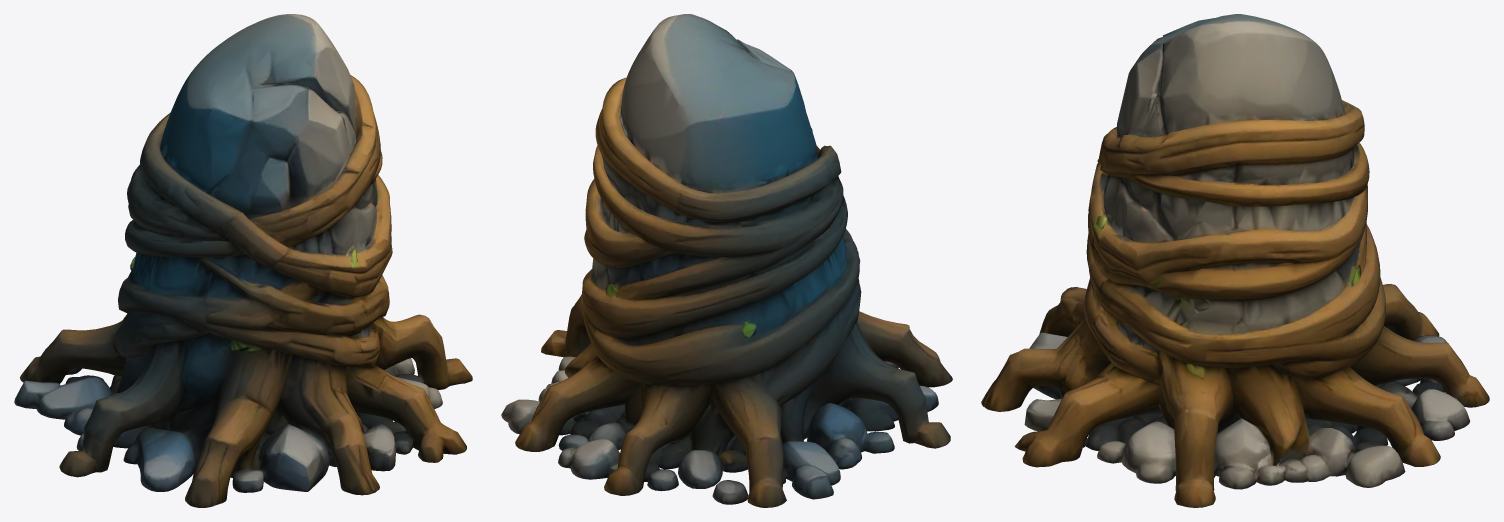
Rendered from roots2.opt.glb.
3 views of the same model, side by side, from view 1: azimuth 30°, elevation 25°; view 2: azimuth 150°, elevation 25°; view 3: azimuth 270°, elevation 25° (orthographic). The views are drawn at different scales.
Visible parts, largest first — view 1: node_0; view 2: node_0; view 3: node_0.
Boxes of the visible parts, box(x1,y1,x2,y2) form: node_0: box(14, 14, 472, 507); node_0: box(501, 14, 952, 507); node_0: box(981, 14, 1489, 507).
Bounding box in the file's own units: 0.8878 × 0.79 × 0.89.
Materials: 1 (1 with a texture image).
